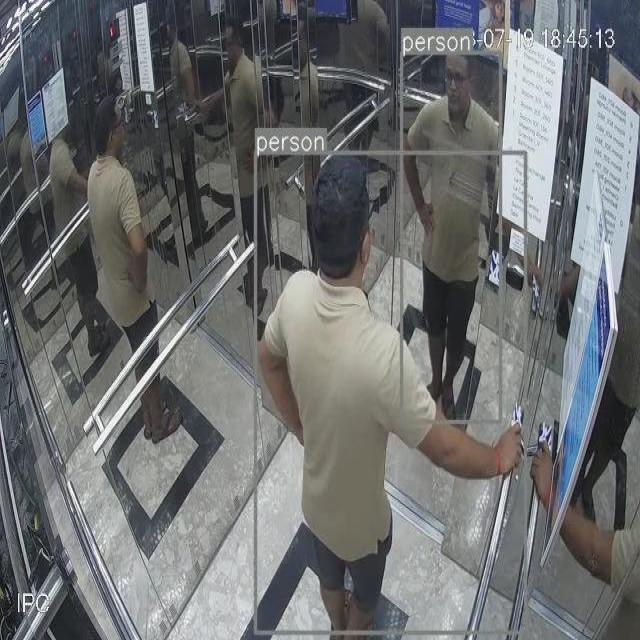person: (259, 155, 529, 632), (80, 102, 187, 466), (403, 54, 506, 418)
